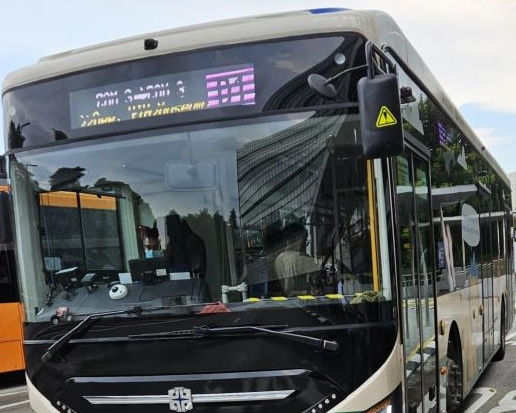bus: (203, 67, 256, 108)
